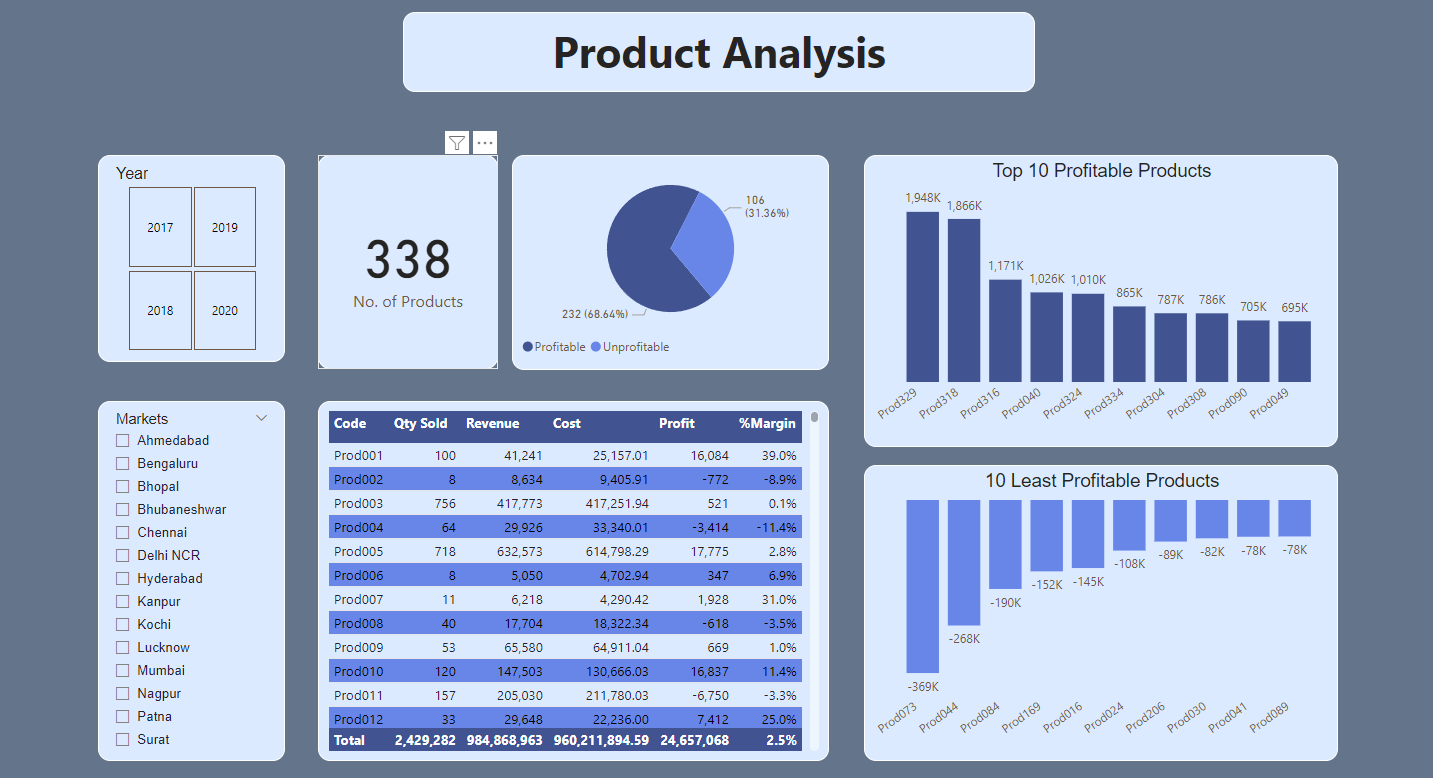

The dashboard page shown, as its layout file describes it:
{"tool":"powerbi","page":{"name":"Product Analysis","canvas":[1480,800],"ordinal":2},"visuals":[{"type":"card","fields":{"Values":["Count(sales transactions.product_code)"]},"box":[339,159,180,214],"z":0},{"type":"slicer","fields":{"Values":["sales date.year"]},"box":[119,159,187,207],"z":1000},{"type":"slicer","fields":{"Values":["sales markets.markets_name"]},"box":[119,405,187,360],"z":2000},{"type":"tableEx","title":"Profit Margin by Products","fields":{"Values":["sales transactions.product_code","Sum(sales transactions.sales_qty)","Sum(sales transactions.Sales_revenue)","Sum(sales transactions.cost_price)","Sum(sales transactions.Profit)","sales transactions.Profit_margin_per"]},"box":[339,405,511,360],"z":3000},{"type":"textbox","box":[424,16,632,80],"z":4000},{"type":"columnChart","title":"Top 10 Profitable Products","fields":{"Y":["Sum(sales transactions.profit_margin)"],"Category":["sales transactions.product_code"]},"box":[885,159,474,292],"z":5000},{"type":"columnChart","title":"10 Least Profitable Products","fields":{"Y":["Sum(sales transactions.profit_margin)"],"Category":["sales products.product_code"]},"box":[885,469,474,296],"z":6000},{"type":"pieChart","fields":{"Category":["Query1.product_category"],"Y":["CountNonNull(Query1.profitability)"]},"box":[533,159,317,215],"z":7000}]}

Visuals, with their boxes in screenshot pixels (x1, y1, x2, y2), scaled from the page's 1480x800 canvas onto the 1433x778 screenshot:
card - Count(sales transactions.product_code): l=328, t=155, r=503, b=363
slicer - sales date.year: l=115, t=155, r=296, b=356
slicer - sales markets.markets_name: l=115, t=394, r=296, b=744
"Profit Margin by Products" tableEx: l=328, t=394, r=823, b=744
textbox: l=411, t=16, r=1022, b=93
"Top 10 Profitable Products" columnChart: l=857, t=155, r=1316, b=439
"10 Least Profitable Products" columnChart: l=857, t=456, r=1316, b=744
pieChart - Query1.product_category x CountNonNull(Query1.profitability): l=516, t=155, r=823, b=364
